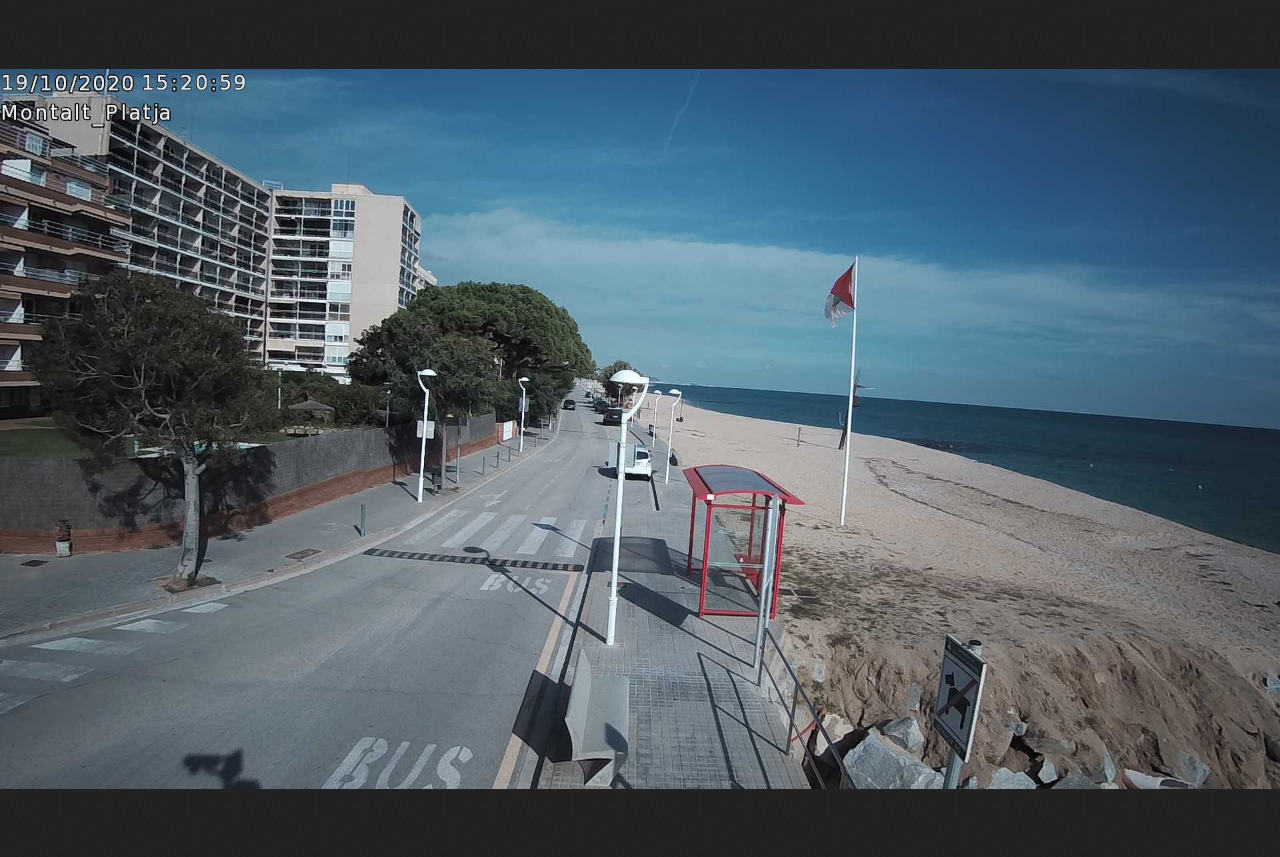maybe: (820, 265, 859, 329)
